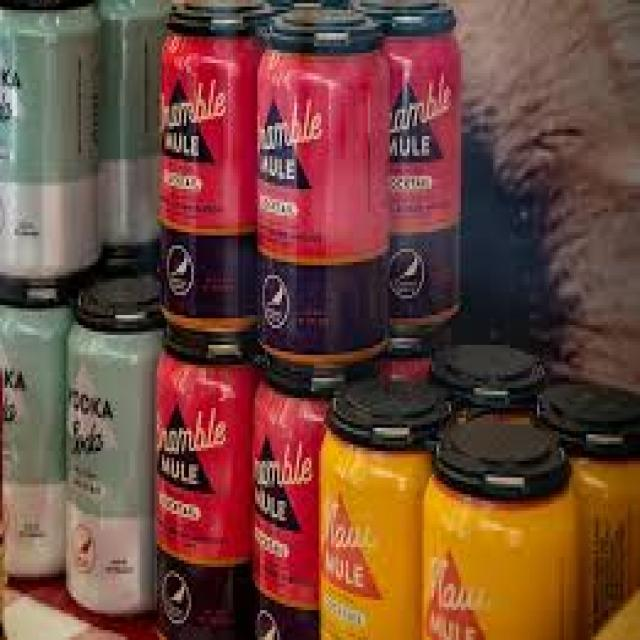Cans: (248, 7, 390, 368), (154, 4, 265, 362), (419, 414, 588, 640), (148, 328, 262, 634), (64, 282, 159, 613), (314, 374, 429, 640)
